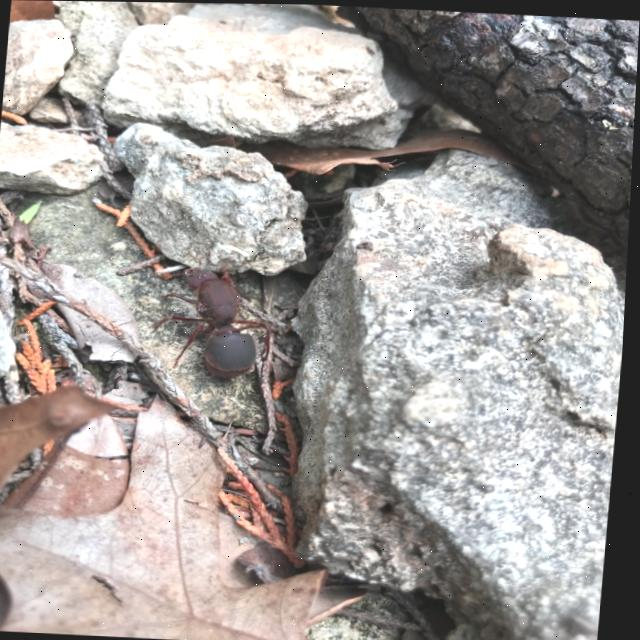Alive-Female-Dealate: (143, 252, 280, 380)
